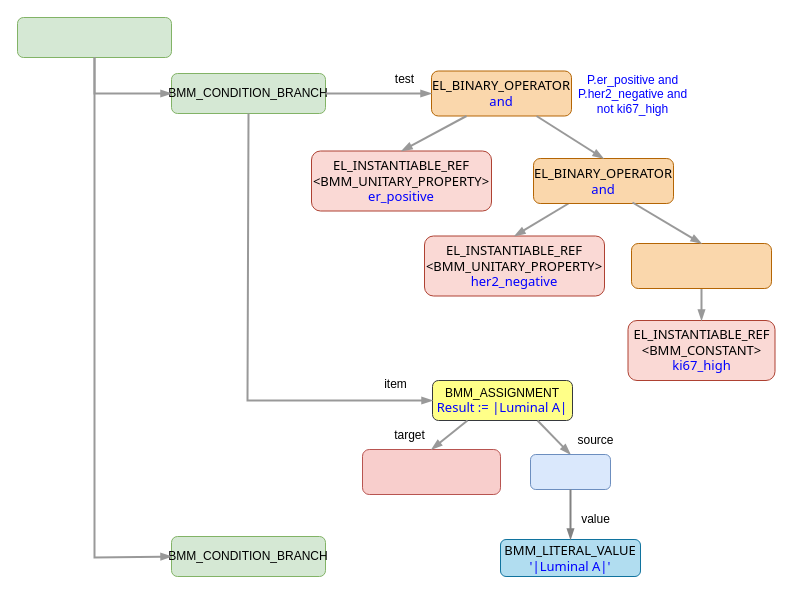
This 793x594 diagram has some shape labels left out. The centre of each missing label's shape, as x and y in pixels:
"BMM_CONDITION_CHAIN" goes at (94,37).
"EL_BINARY_OPERATOR not" goes at (701,265).
"EL_INSTANTIABLE_REF <BMM_RESULT> Result" goes at (431,471).
"EL_LITERAL" goes at (570,472).
